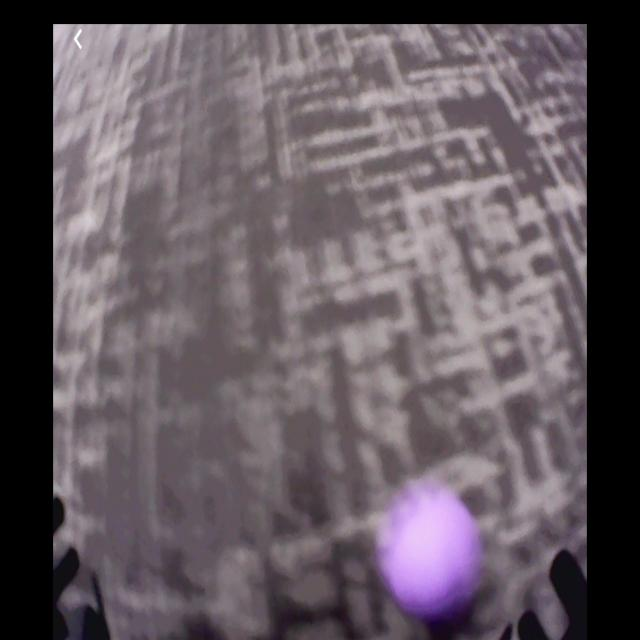ball: (382, 481, 481, 624)
